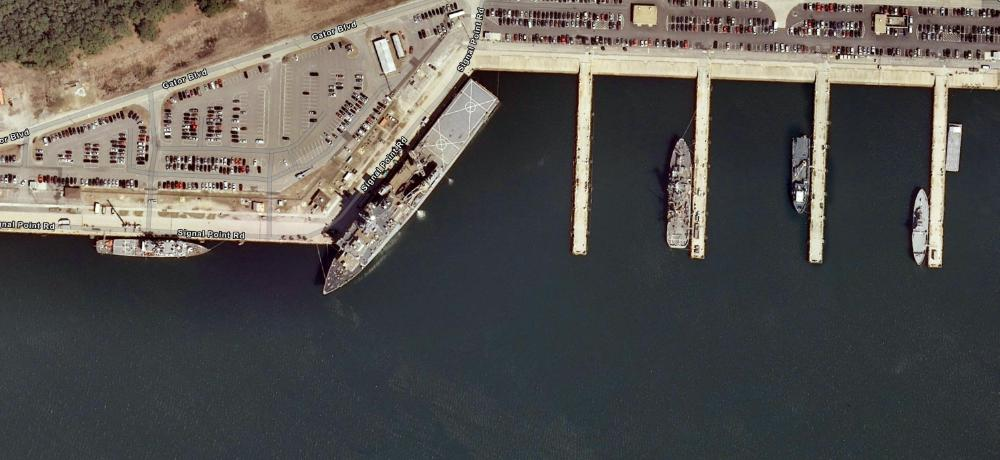amphiby: (307, 73, 510, 320)
